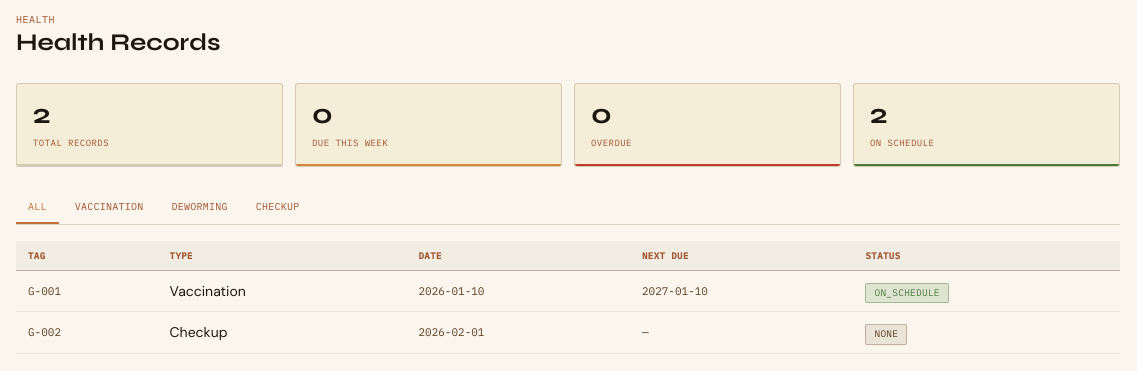
Test: HealthRecords page › tab filter changes displayed records
The width and height of the screenshot is (1137, 371).
Expected: the text "G-002" is shown, [16,312,158,353]
Click the button "Vaccination" at (109, 207), box [63,190,156,224]
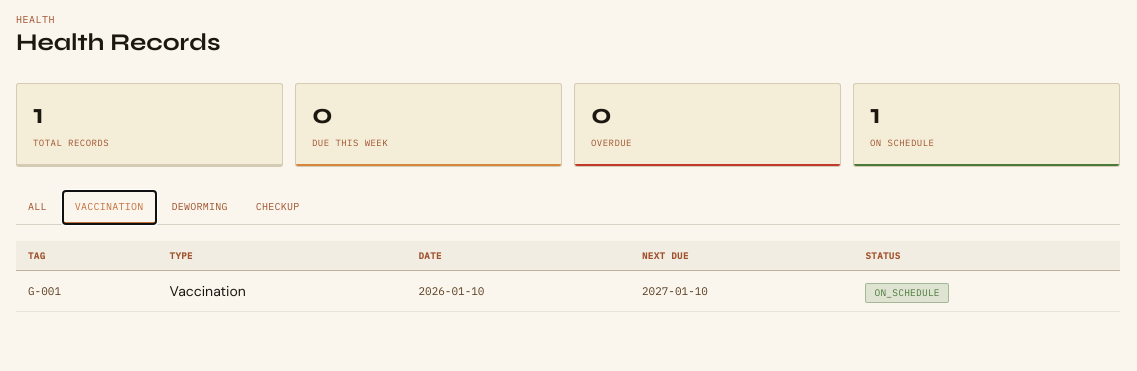
Expected: the text "G-001" is shown, [16,270,158,312]
Result: the text "G-002" is gone
